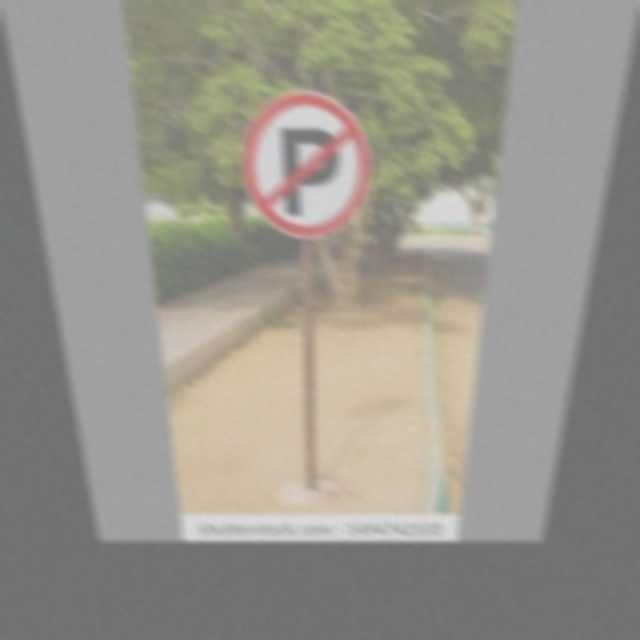No_Parking: (239, 92, 372, 240)
